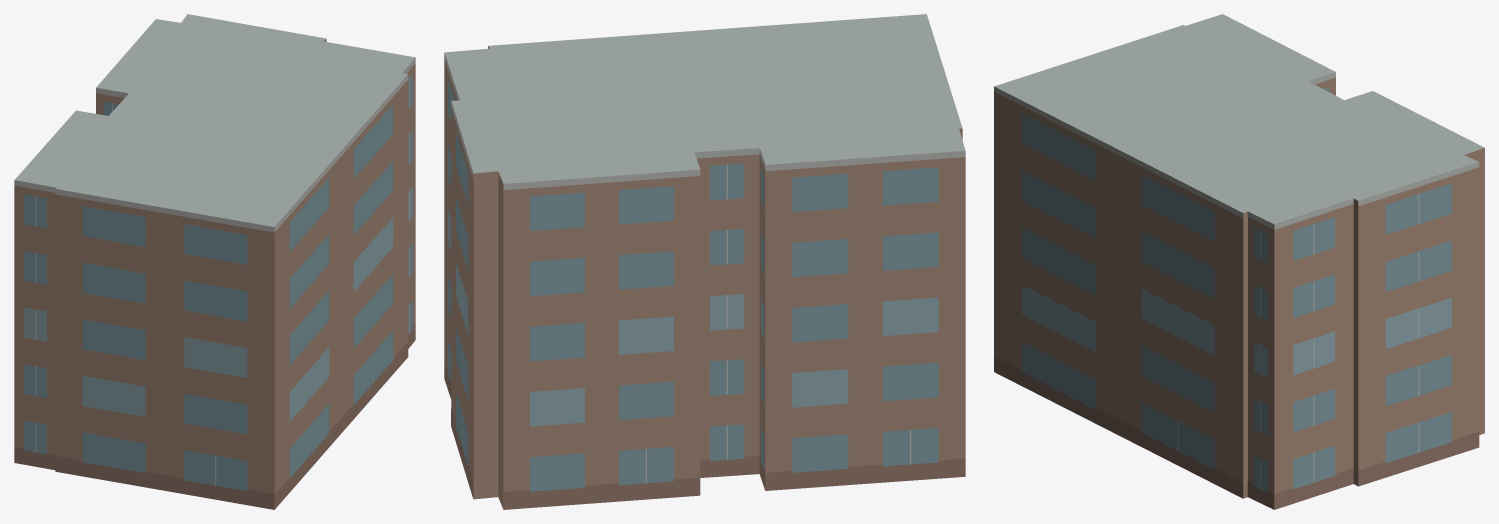
The model's file is survey-upis-32833261.glb.
The picture shows the model from 3 angles, left to right: view 1: azimuth 30°, elevation 25°; view 2: azimuth 150°, elevation 25°; view 3: azimuth 270°, elevation 25°; orthographic projection. The views are drawn at different scales.
Parts seen in each view (by area): view 1: survey-upis-32833261.tmp; view 2: survey-upis-32833261.tmp; view 3: survey-upis-32833261.tmp.
Boxes of the visible parts, x1,y1,x2,y2 form: survey-upis-32833261.tmp: [14, 14, 415, 509]; survey-upis-32833261.tmp: [444, 14, 965, 509]; survey-upis-32833261.tmp: [994, 14, 1484, 509].
Bounding box in the file's own units: 20.07 × 12.7 × 19.79.
